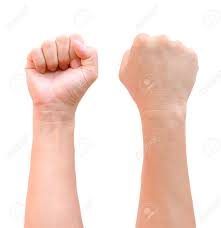fist: (122, 35, 197, 109), (23, 34, 102, 104)
